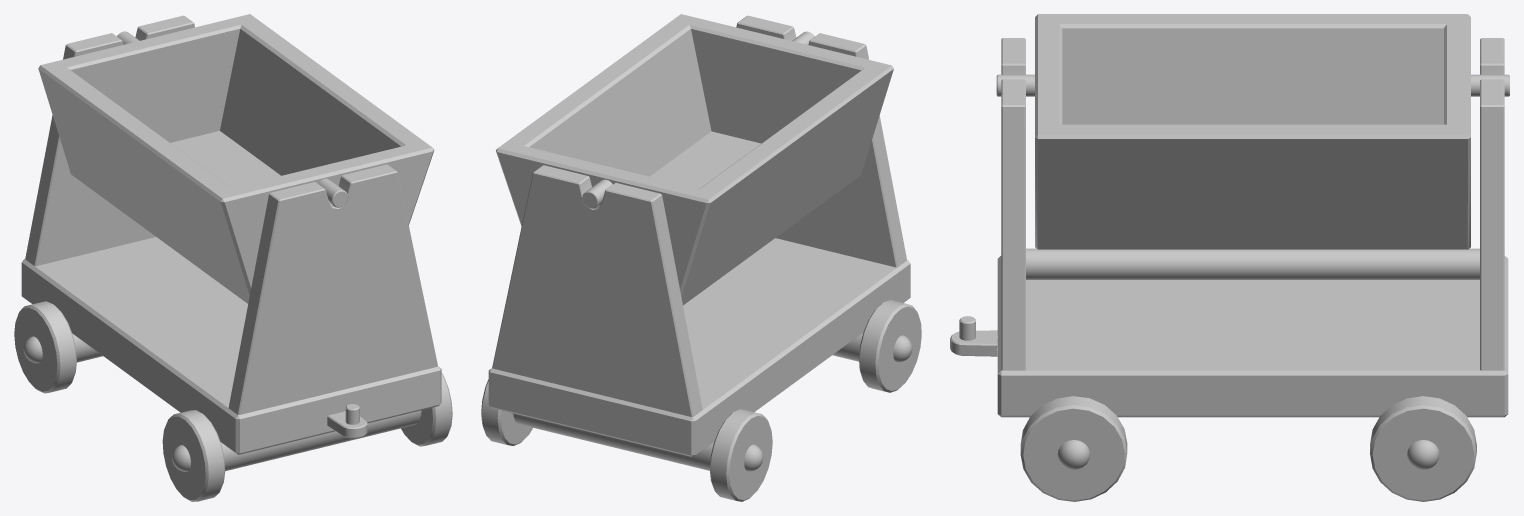
Rendered from WoodenTrainToy_TrainCar_04.fbx.
The picture shows the model from 3 angles, left to right: view 1: azimuth 30°, elevation 25°; view 2: azimuth 150°, elevation 25°; view 3: azimuth 270°, elevation 25°; orthographic projection. The views are drawn at different scales.
Visible parts, largest first — view 1: TrainCar04; view 2: TrainCar04; view 3: TrainCar04.
Part boxes in pixels (box(x1,y1,x2,y2)): TrainCar04: box(14, 14, 452, 501); TrainCar04: box(481, 14, 921, 501); TrainCar04: box(950, 14, 1509, 501).
Bounding box in the file's own units: 11.02 × 12.06 × 16.96.
